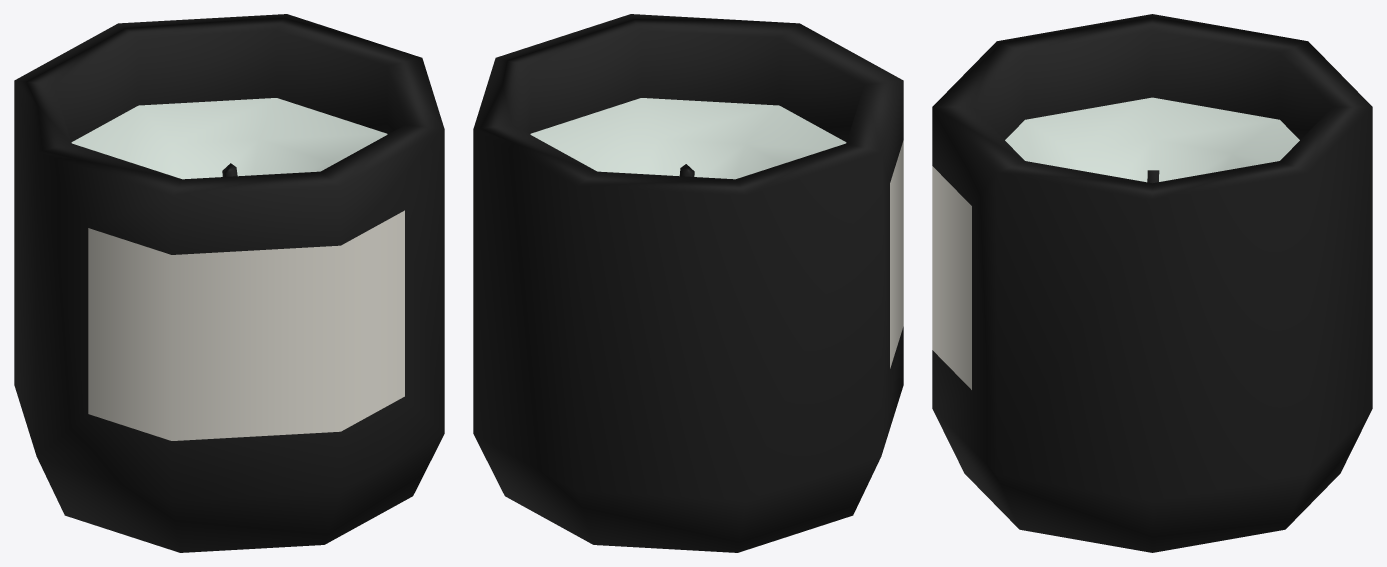
File: prop_033.fbx
The picture shows the model from 3 angles, left to right: view 1: azimuth 30°, elevation 25°; view 2: azimuth 150°, elevation 25°; view 3: azimuth 270°, elevation 25°; orthographic projection.
Parts seen in each view (by area): view 1: prop_033; view 2: prop_033; view 3: prop_033.
Boxes of the visible parts, x1,y1,x2,y2 form: prop_033: (14, 14, 444, 552); prop_033: (473, 14, 903, 552); prop_033: (932, 14, 1372, 552).
Size of the model in its own units: 13.31 by 13.31 by 13.11.
